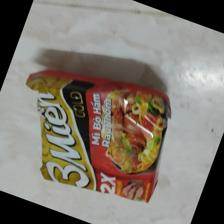3mien: (23, 68, 173, 205)
